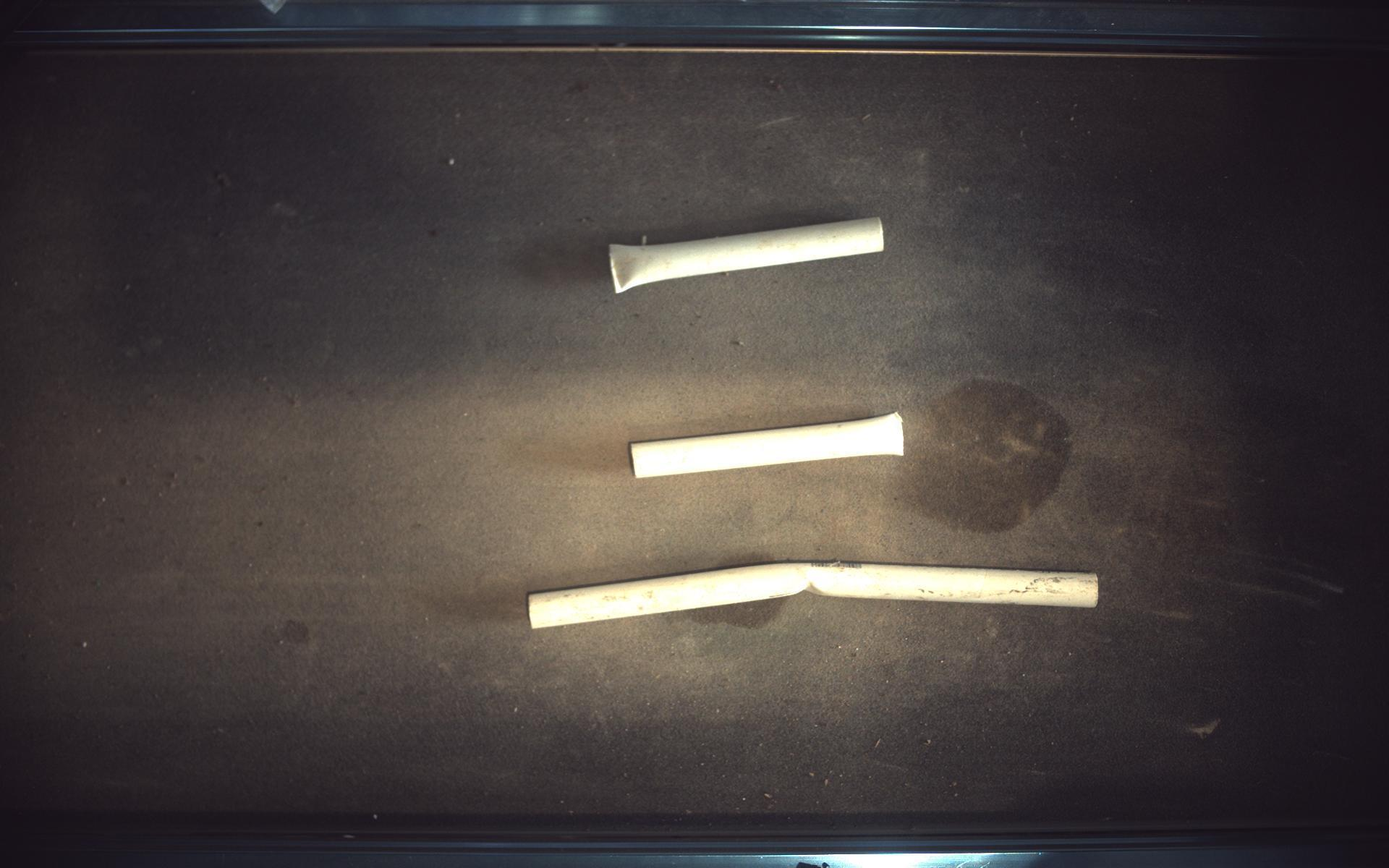pipes: (529, 562, 1101, 629), (611, 216, 885, 292), (631, 413, 906, 478)
